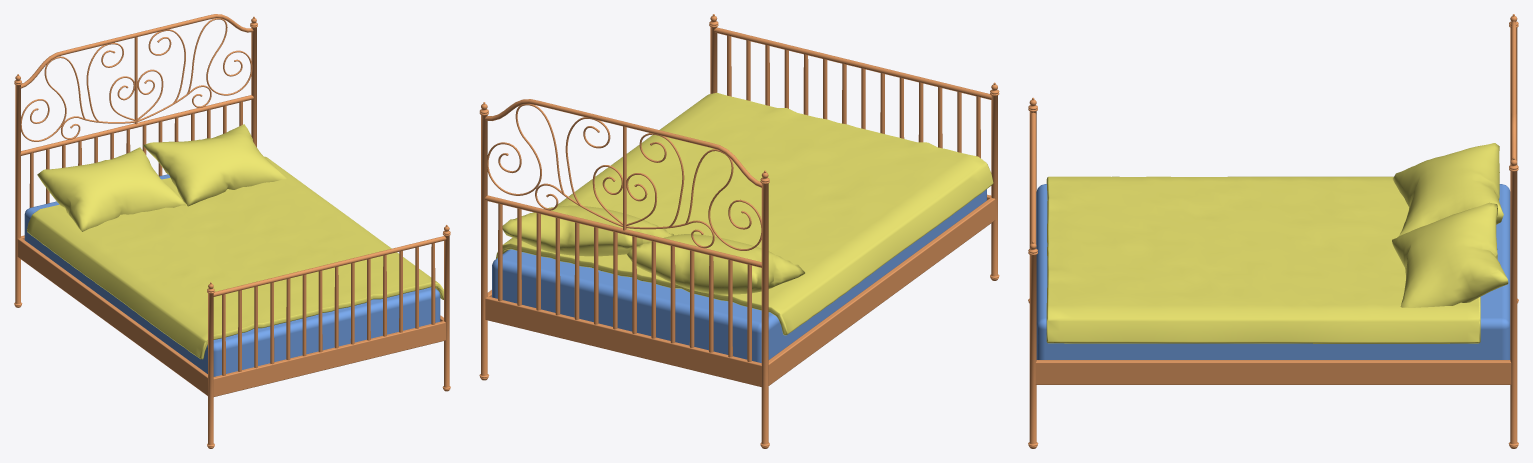
Rendered from LEIRVIK.fbx.
3 views of the same model, side by side, from view 1: azimuth 30°, elevation 25°; view 2: azimuth 150°, elevation 25°; view 3: azimuth 270°, elevation 25° (orthographic). The views are drawn at different scales.
Visible parts, largest first — view 1: Plane.002, Cube.010, Cube.015, Cube.011, Cube.013, Cube.021, Cube.012, Cube.019, BezierCurve.001, Cube.020, Cylinder.004; view 2: Plane.002, Cube.015, Cube.010, Cube.020, Cube.012, Cube.011, Cube.013, Cube.021, BezierCurve.001, Cube.019, Cylinder.004; view 3: Plane.002, Cube.015, Cube.010, Cube.013, Cube.011, Cube.012, Cube.019, Cylinder.004.
Boxes of the visible parts, box(x1,y1,x2,y2) form: Plane.002: box(27, 156, 443, 359); Cube.010: box(17, 235, 445, 396); Cube.015: box(24, 174, 440, 376); Cube.011: box(37, 147, 185, 231); Cube.013: box(143, 124, 286, 206); Cube.021: box(222, 243, 435, 375); Cube.012: box(14, 16, 257, 307); Cube.019: box(207, 225, 450, 448); BezierCurve.001: box(21, 18, 252, 141); Cube.020: box(29, 101, 242, 207); Cylinder.004: box(20, 14, 253, 88); Plane.002: box(496, 92, 993, 335); Cube.015: box(492, 189, 986, 362); Cube.010: box(485, 194, 995, 387); Cube.020: box(498, 203, 751, 361); Cube.012: box(479, 102, 769, 448); Cube.011: box(627, 234, 804, 294); Cube.013: box(502, 205, 674, 256); Cube.021: box(727, 35, 980, 158); BezierCurve.001: box(487, 104, 761, 250); Cube.019: box(709, 14, 999, 280); Cylinder.004: box(485, 99, 761, 187); Plane.002: box(1046, 176, 1480, 343); Cube.015: box(1036, 184, 1510, 359); Cube.010: box(1035, 360, 1511, 384); Cube.013: box(1392, 202, 1508, 307); Cube.011: box(1392, 143, 1503, 235); Cube.012: box(1508, 14, 1518, 448); Cube.019: box(1028, 97, 1038, 448); Cylinder.004: box(1511, 21, 1516, 159).
Bounding box in the file's own units: 154 × 145 × 212.
